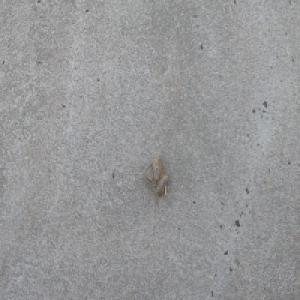Rock: (140, 152, 167, 199)
